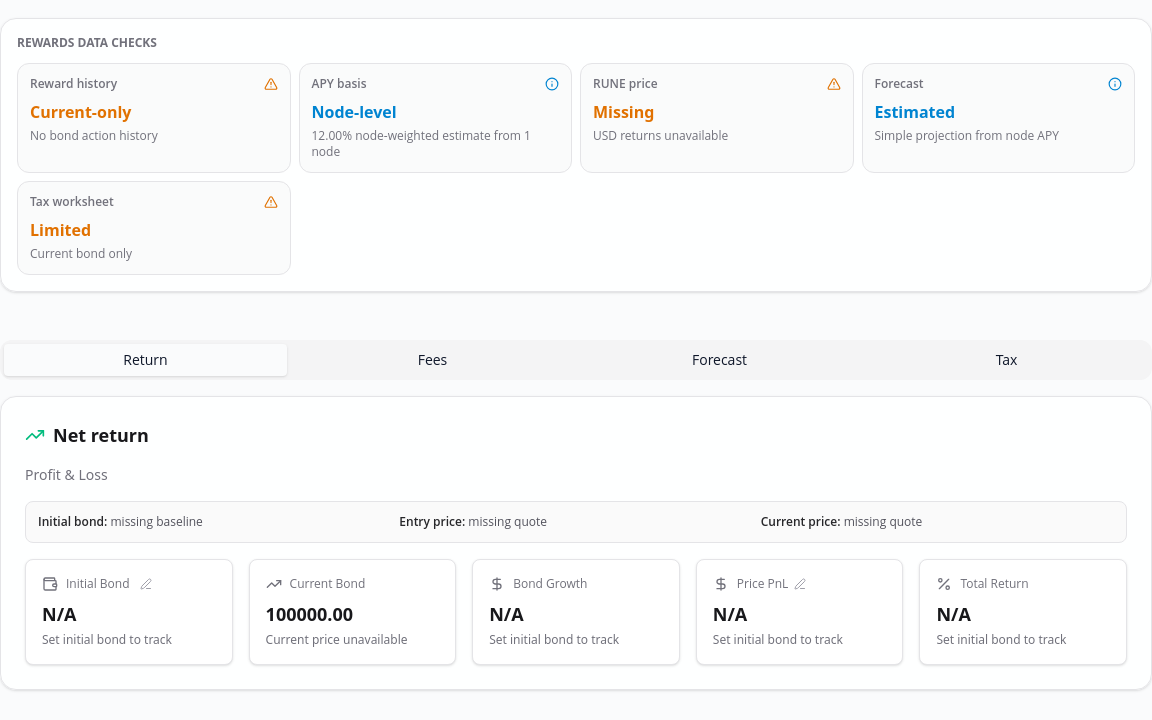
Scenario: RewardsPage › shows tax worksheet export failures without logging handled errors to the console
(page scrolled)
Click the tab "Tax".
click(1006, 360)  # box x1=865 y1=344 x2=1148 y2=376
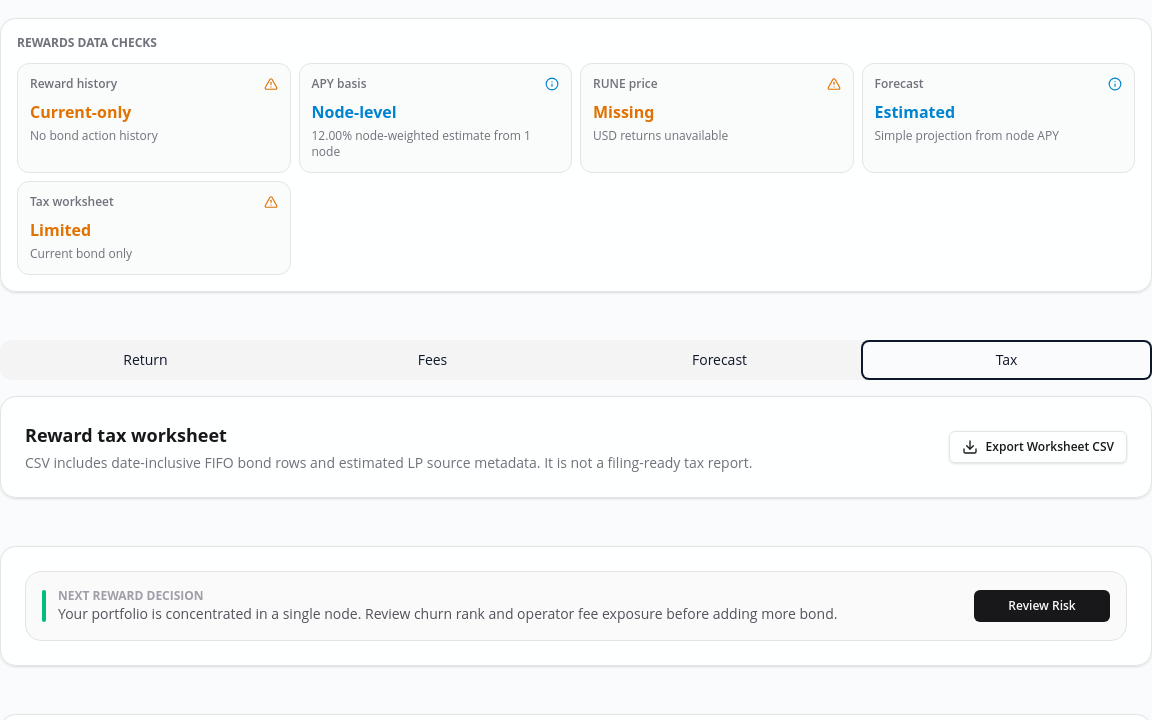
Click the button "Export Worksheet CSV".
click(1038, 447)  # box x1=949 y1=431 x2=1127 y2=463
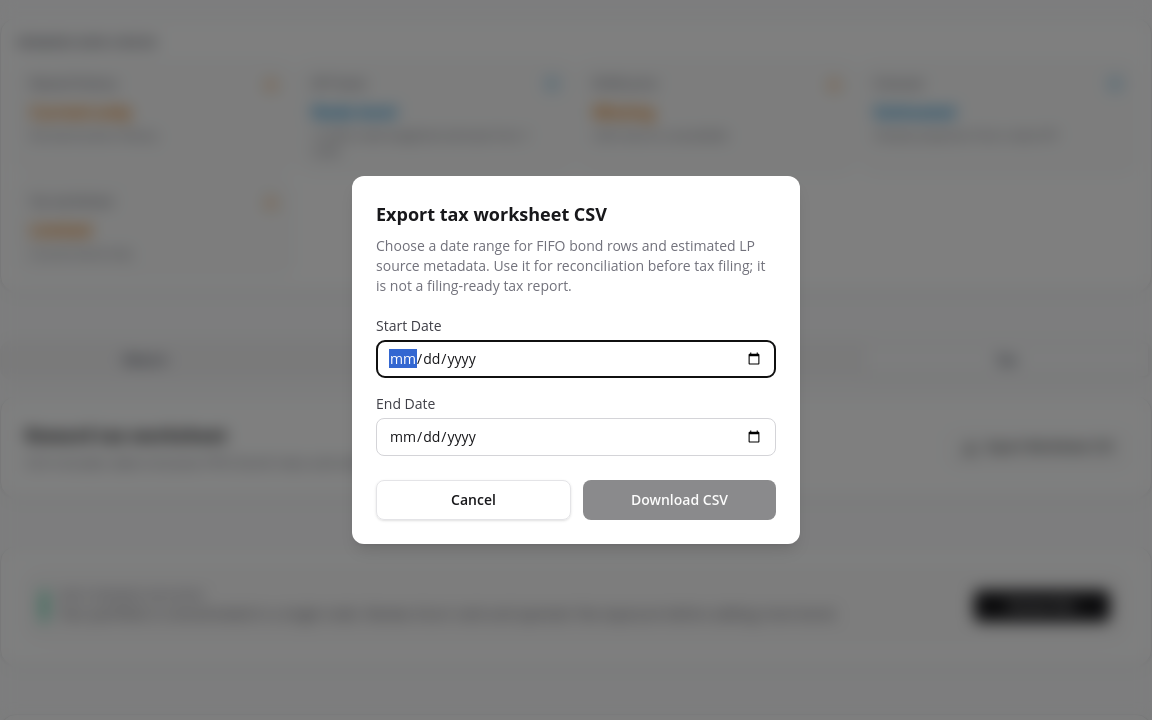
Type "2026-01-01" into the date field labelled "Start Date".
click(576, 359); type("2026-01-01")  # box x1=376 y1=340 x2=776 y2=378
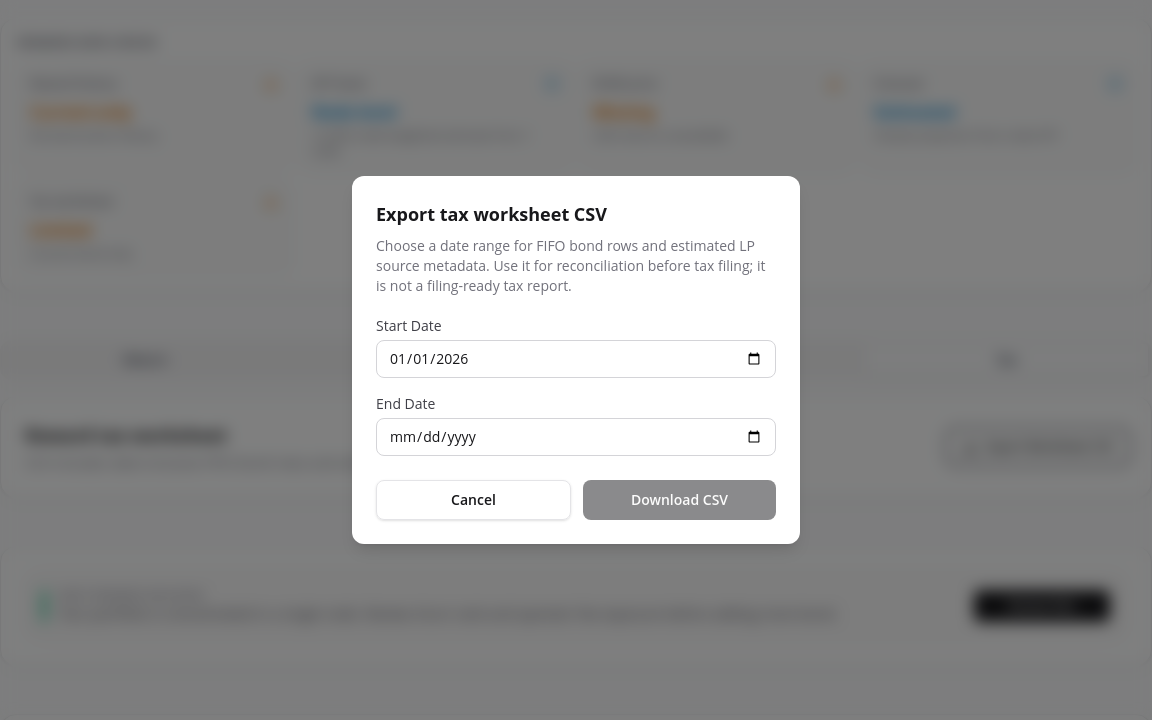
Type "2026-01-31" into the date field labelled "End Date".
click(576, 437); type("2026-01-31")  # box x1=376 y1=418 x2=776 y2=456
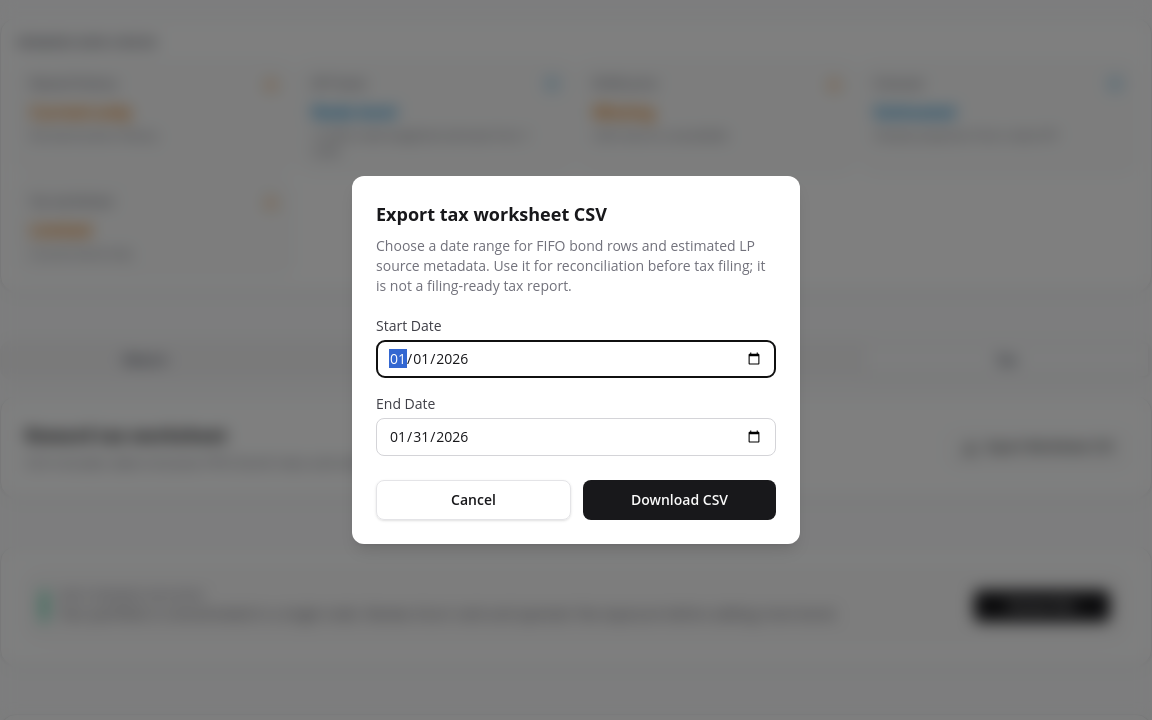
Click the button "Download CSV".
click(680, 500)  # box x1=583 y1=480 x2=776 y2=520
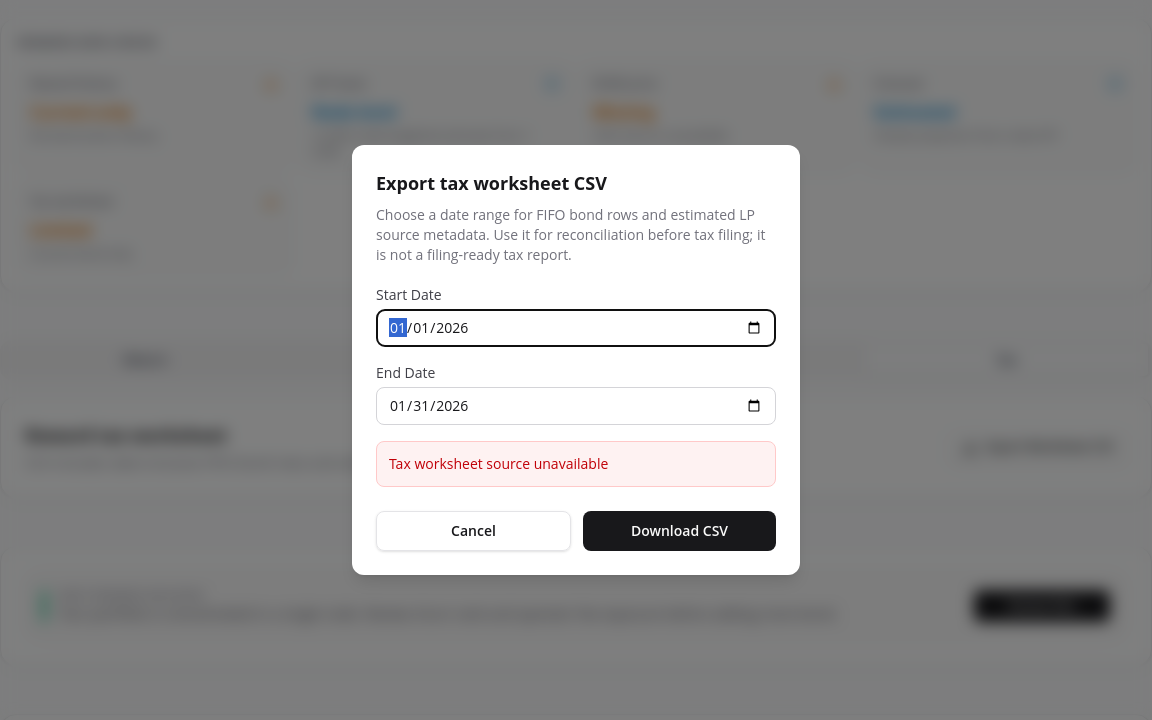
Check: the message reads "Tax worksheet source unavailable", box x1=389 y1=454 x2=608 y2=473
